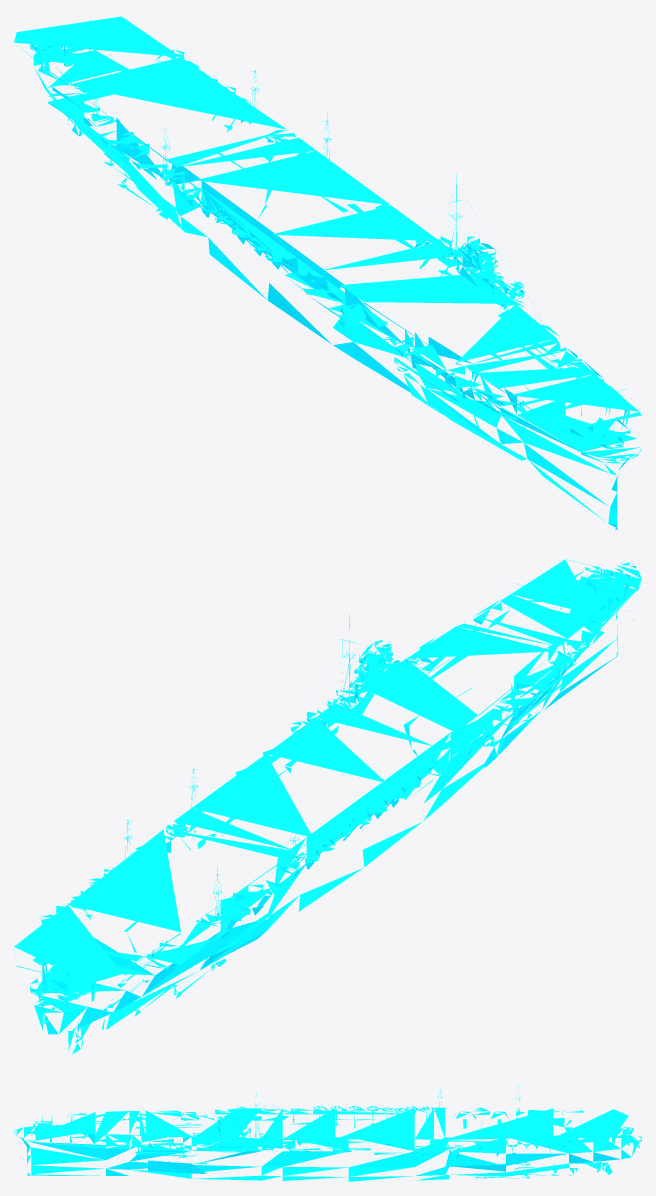
The model's file is Kikaku.glb.
3 renders of one model, top to bottom at view 1: azimuth 30°, elevation 25°; view 2: azimuth 150°, elevation 25°; view 3: azimuth 270°, elevation 25°, orthographic. The views are drawn at different scales.
Bounding box in the file's own units: 2.68 × 3.12 × 17.29.
